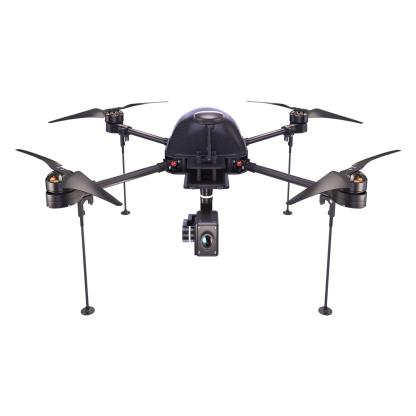drone: (19, 88, 406, 280)
